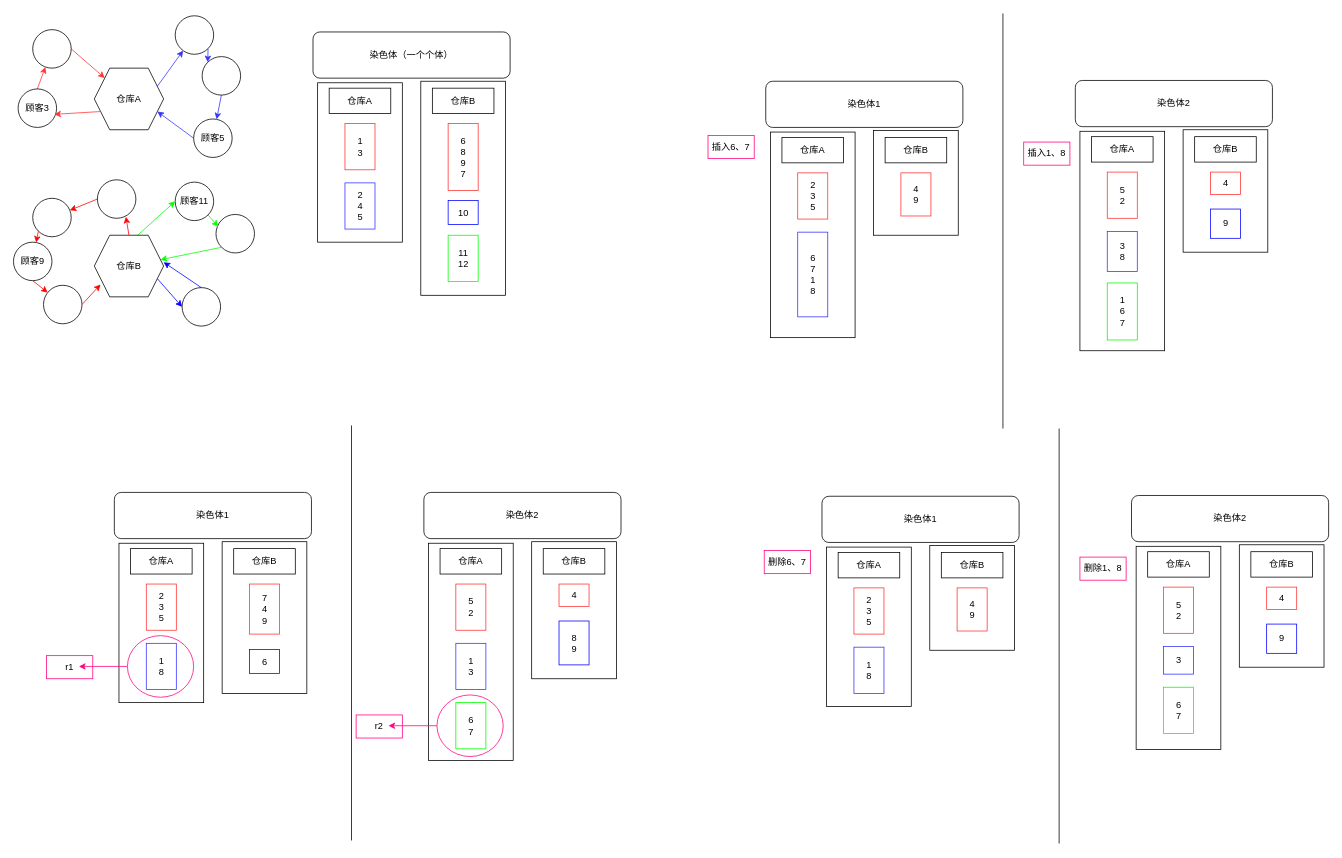
Some shapes in this 1342 by 858 pixel diagram are drawn without their labels. Each missing label, with the centre of its shape:
"顾客1" goes at point 51,48.
"顾客10" goes at point 201,306.
"顾客12" goes at point 234,233.
"顾客2" goes at point 194,34.
"顾客4" goes at point 221,75.
"顾客6" goes at point 116,198.
"顾客7" goes at point 62,304.
"顾客8" goes at point 51,217.
